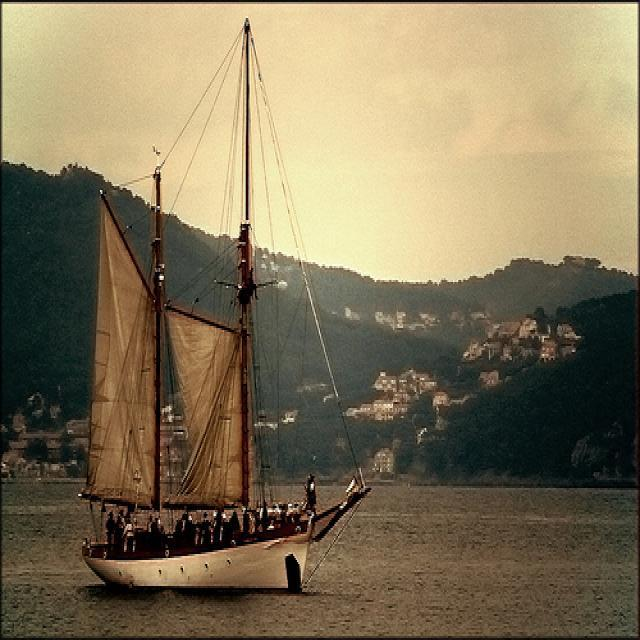Ship: (67, 21, 373, 602)
